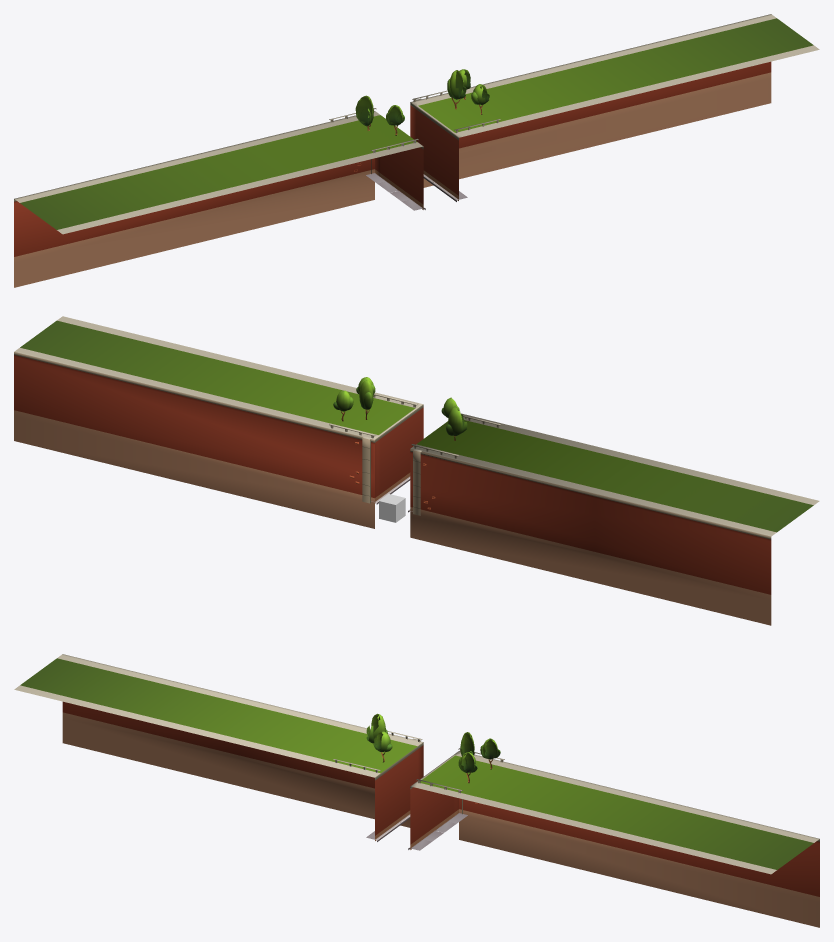
File: CityTunnel_05a_Addon.fbx
The picture shows the model from 3 angles, top to bottom: view 1: azimuth 30°, elevation 25°; view 2: azimuth 150°, elevation 25°; view 3: azimuth 330°, elevation 25°; orthographic projection.
Parts seen in each view (by area): view 1: CityTunnel_05a_Addon; view 2: CityTunnel_05a_Addon, Cube; view 3: CityTunnel_05a_Addon.
Boxes of the visible parts, <box> form: CityTunnel_05a_Addon: <box>14,14,819,287</box>; CityTunnel_05a_Addon: <box>14,316,819,625</box>; Cube: <box>379,494,405,522</box>; CityTunnel_05a_Addon: <box>14,654,819,927</box>.
Size of the model in its own units: 8921 by 1447 by 1100.
